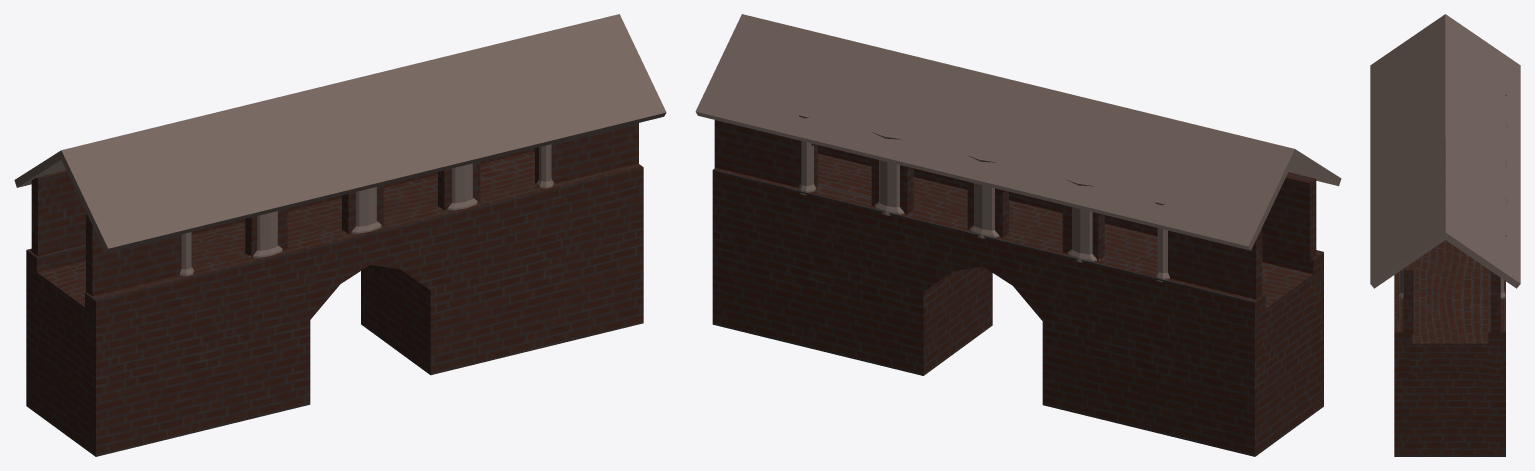
File: ArchBridge.fbx
3 renders of one model, left to right at view 1: azimuth 30°, elevation 25°; view 2: azimuth 150°, elevation 25°; view 3: azimuth 270°, elevation 25°, orthographic. The views are drawn at different scales.
Parts seen in each view (by area): view 1: Cube.032, Cube.030, Cylinder.002; view 2: Cube.032, Cube.030, Cylinder.002; view 3: Cube.030, Cube.032, Cylinder.002.
Boxes of the visible parts, bbox=[...] form: Cube.032: bbox=[26, 148, 643, 456]; Cube.030: bbox=[14, 14, 666, 252]; Cylinder.002: bbox=[31, 123, 638, 296]; Cube.032: bbox=[712, 145, 1323, 456]; Cube.030: bbox=[695, 14, 1341, 250]; Cylinder.002: bbox=[714, 113, 1316, 299]; Cube.030: bbox=[1370, 14, 1520, 288]; Cube.032: bbox=[1394, 240, 1505, 456]; Cylinder.002: bbox=[1398, 91, 1507, 334].
Size of the model in its own units: 3058 by 1486 by 890.
Materials: 1 (1 with a texture image).
